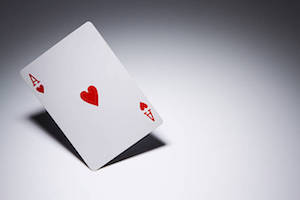AceOfHearts: (16, 20, 166, 170)
